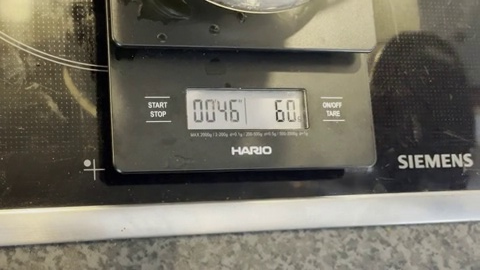display: (186, 89, 304, 128)
